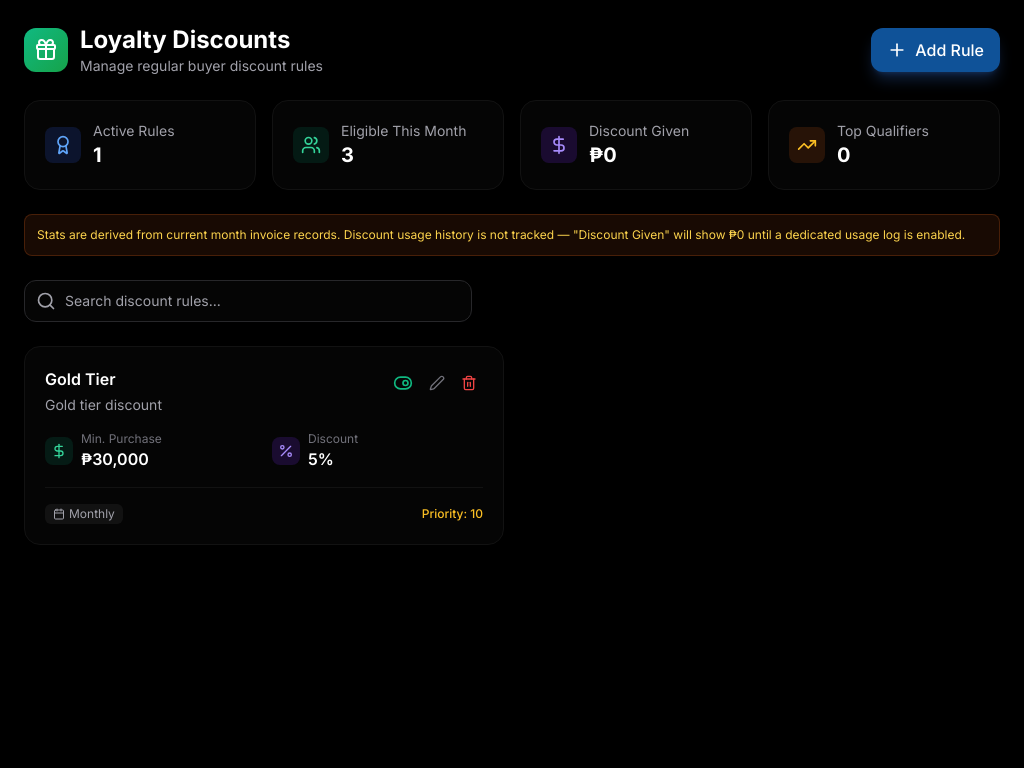
Test: LoyaltyDiscountRulesView › opens create modal on Add Rule click
expect the heading "Gold Tier" is shown: met, box [45,369,116,389]
Click the button "Add Rule". click: x=936, y=50
box: [871,28,1000,72]
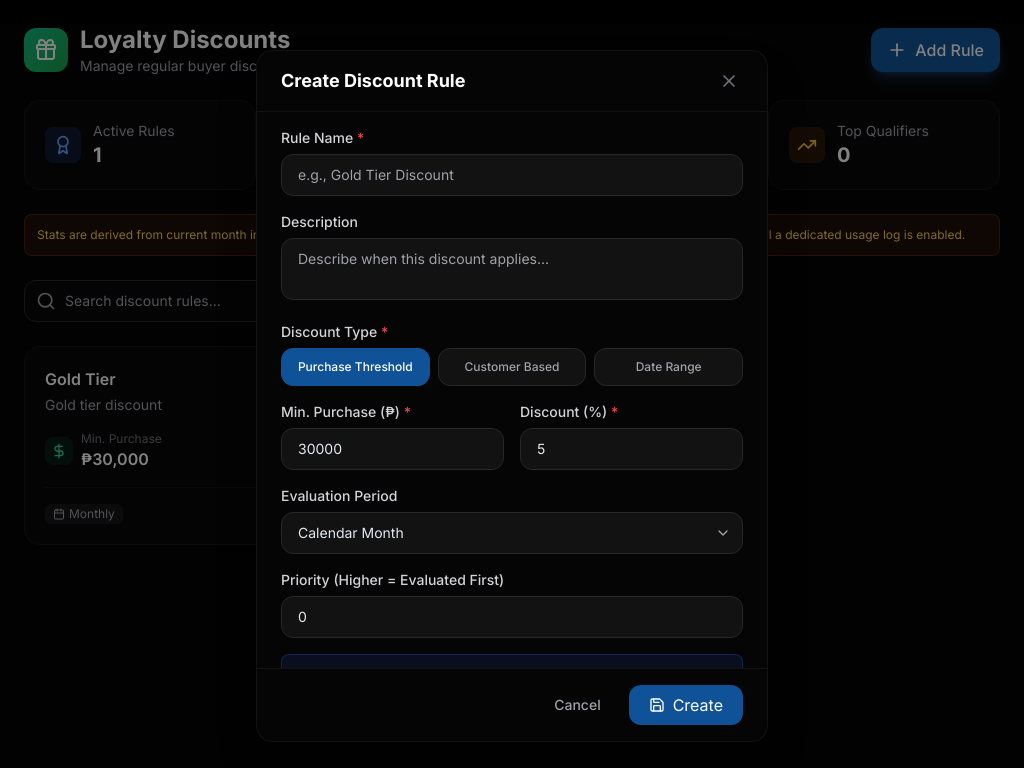
expect the heading "Create Discount Rule" is shown: met, box [281,67,465,95]
